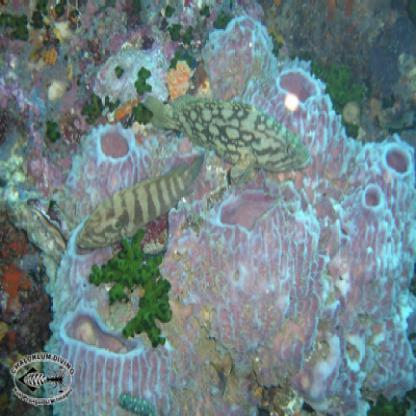grouper: (138, 89, 313, 189), (74, 150, 207, 257)
